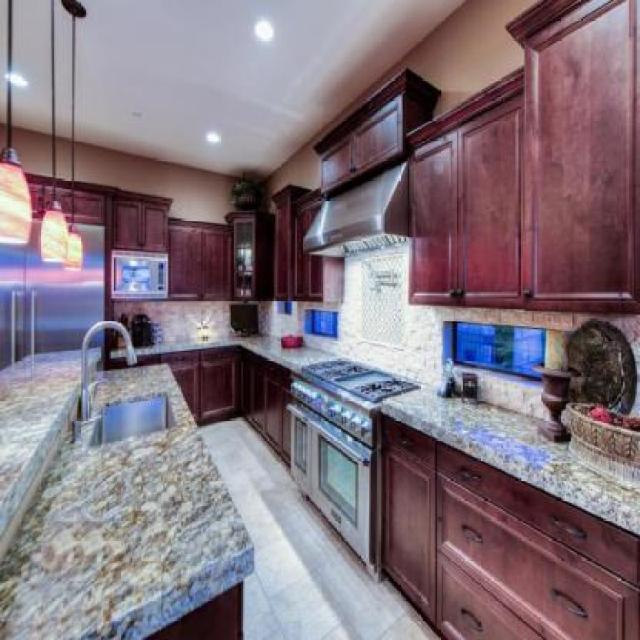floor: (197, 414, 444, 640)
